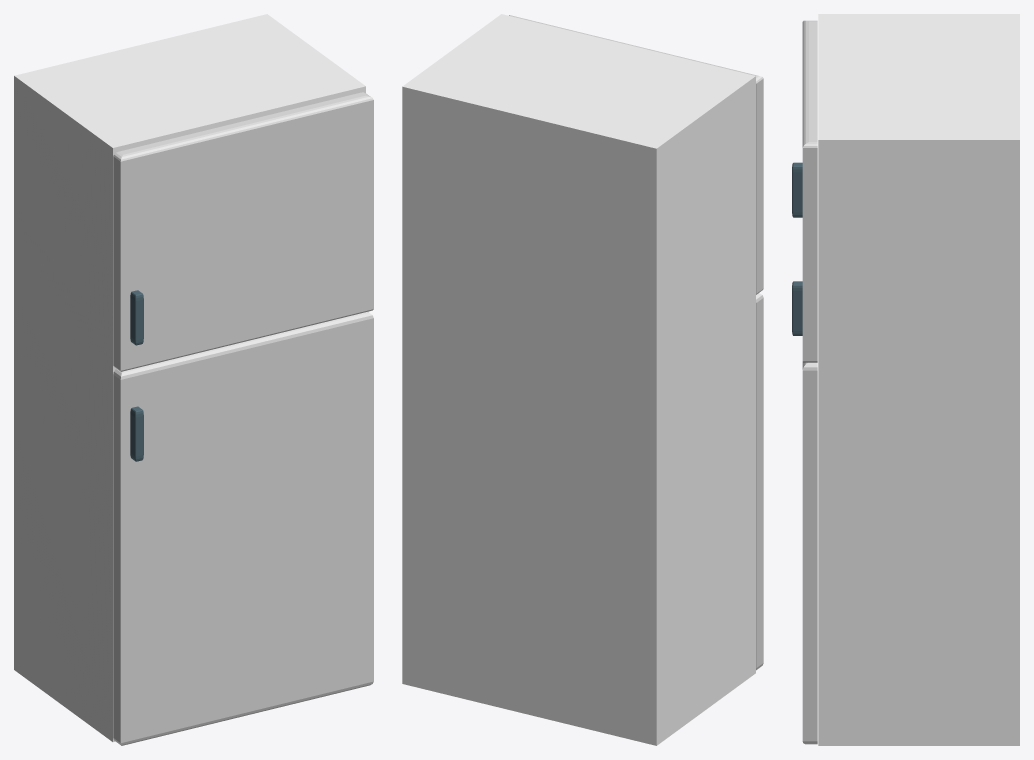
The model's file is Refridgerator.fbx.
3 renders of one model, left to right at view 1: azimuth 30°, elevation 25°; view 2: azimuth 150°, elevation 25°; view 3: azimuth 270°, elevation 25°, orthographic.
Visible parts, largest first — view 1: downdoor, Refridgerator1, updoor, downhand, uphand; view 2: Refridgerator1, downdoor, updoor; view 3: Refridgerator1, downdoor, updoor, uphand, downhand.
Boxes of the visible parts, x1=… form: downdoor: x1=113, y1=311, x2=373, y2=745; Refridgerator1: x1=14, y1=14, x2=365, y2=741; updoor: x1=113, y1=92, x2=373, y2=371; downhand: x1=130, y1=406, x2=143, y2=461; uphand: x1=130, y1=290, x2=143, y2=345; Refridgerator1: x1=402, y1=14, x2=755, y2=745; downdoor: x1=756, y1=293, x2=763, y2=670; updoor: x1=509, y1=15, x2=763, y2=294; Refridgerator1: x1=818, y1=14, x2=1019, y2=745; downdoor: x1=802, y1=362, x2=817, y2=744; updoor: x1=802, y1=20, x2=817, y2=362; uphand: x1=792, y1=162, x2=802, y2=217; downhand: x1=792, y1=281, x2=802, y2=335.
Size of the model in its own units: 200 by 449 by 153.
